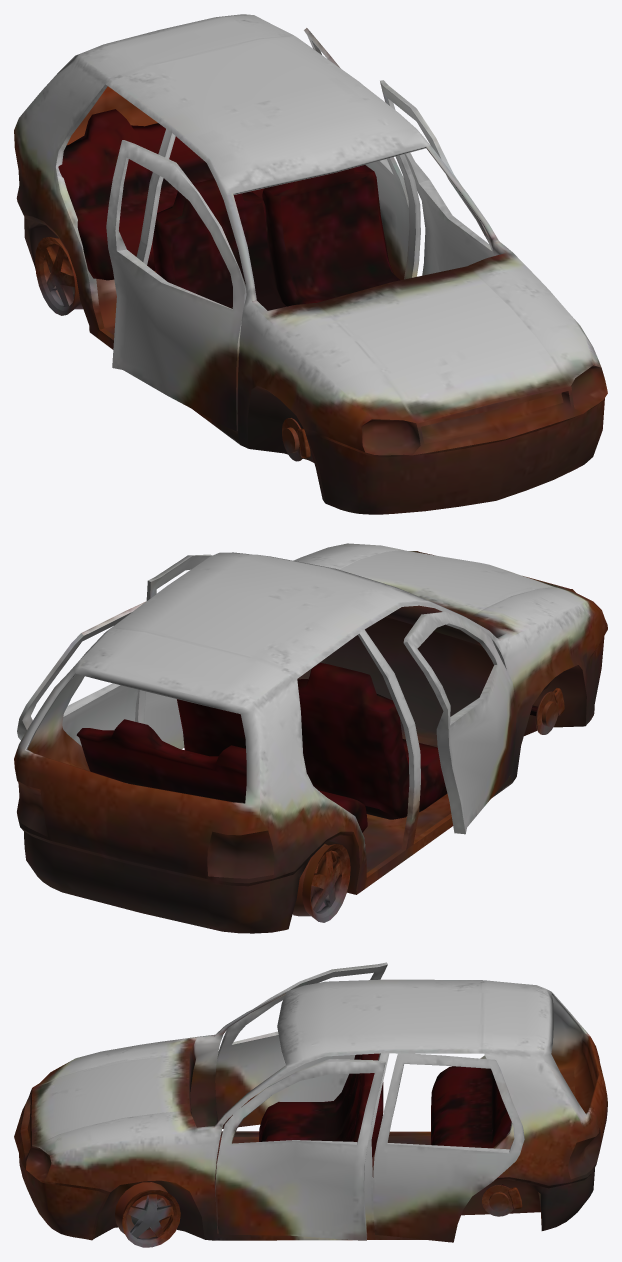
The model's file is car3_hatch_stripped_white.glb.
The picture shows the model from 3 angles, top to bottom: view 1: azimuth 30°, elevation 25°; view 2: azimuth 150°, elevation 25°; view 3: azimuth 270°, elevation 25°; orthographic projection. The views are drawn at different scales.
Parts seen in each view (by area): view 1: CarChasis-low, Door-Front-Right, Seat-Front-Left, Seat-Back, Seat-Front-Left.001, Door-Front-Left, Door-Back-Left, Rim-Back-Right, Rim-Front-Right; view 2: CarChasis-low, Seat-Front-Left.001, Door-Front-Right, Seat-Back, Door-Back-Left, Rim-Back-Right, Seat-Front-Left, Door-Front-Left, Rim-Front-Right; view 3: CarChasis-low, Door-Front-Left, Door-Back-Left, Door-Front-Right, Seat-Back, Seat-Front-Left.001, Rim-Front-Left, Seat-Front-Left, Rim-Front-Right.001.
Boxes of the visible parts, bbox=[...] form: CarChasis-low: bbox=[14, 14, 607, 514]; Door-Front-Right: bbox=[106, 140, 246, 431]; Seat-Front-Left: bbox=[262, 165, 400, 306]; Seat-Back: bbox=[58, 109, 263, 280]; Seat-Front-Left.001: bbox=[152, 178, 286, 310]; Door-Front-Left: bbox=[380, 80, 493, 275]; Door-Back-Left: bbox=[304, 28, 409, 279]; Rim-Back-Right: bbox=[35, 237, 83, 315]; Rim-Front-Right: bbox=[282, 418, 310, 461]; CarChasis-low: bbox=[14, 543, 607, 933]; Seat-Front-Left.001: bbox=[297, 663, 447, 819]; Door-Front-Right: bbox=[403, 611, 516, 834]; Seat-Back: bbox=[76, 719, 367, 832]; Door-Back-Left: bbox=[17, 601, 146, 746]; Rim-Back-Right: bbox=[292, 844, 350, 922]; Seat-Front-Left: bbox=[177, 699, 245, 756]; Door-Front-Left: bbox=[144, 554, 212, 749]; Rim-Front-Right: bbox=[535, 687, 564, 734]; CarChasis-low: bbox=[14, 979, 607, 1240]; Door-Front-Left: bbox=[215, 1059, 385, 1240]; Door-Back-Left: bbox=[373, 1053, 524, 1242]; Door-Front-Right: bbox=[215, 962, 387, 1128]; Seat-Back: bbox=[431, 1066, 511, 1148]; Seat-Front-Left.001: bbox=[259, 1053, 379, 1141]; Rim-Front-Left: bbox=[115, 1182, 180, 1247]; Seat-Front-Left: bbox=[334, 1073, 383, 1158]; Rim-Front-Right.001: bbox=[482, 1185, 522, 1216].
Size of the model in its own units: 2.05 by 1.36 by 4.
Materials: 1 (1 with a texture image).
